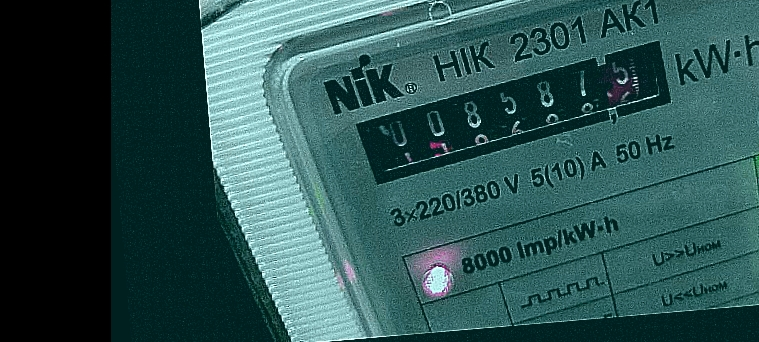0: (422, 103, 451, 139), (385, 114, 413, 148)
5: (496, 83, 522, 116), (608, 52, 633, 85)
6: (616, 87, 635, 105)
7: (570, 64, 595, 100)
8: (460, 95, 487, 129), (533, 74, 558, 109)
screen: (343, 36, 699, 187)
